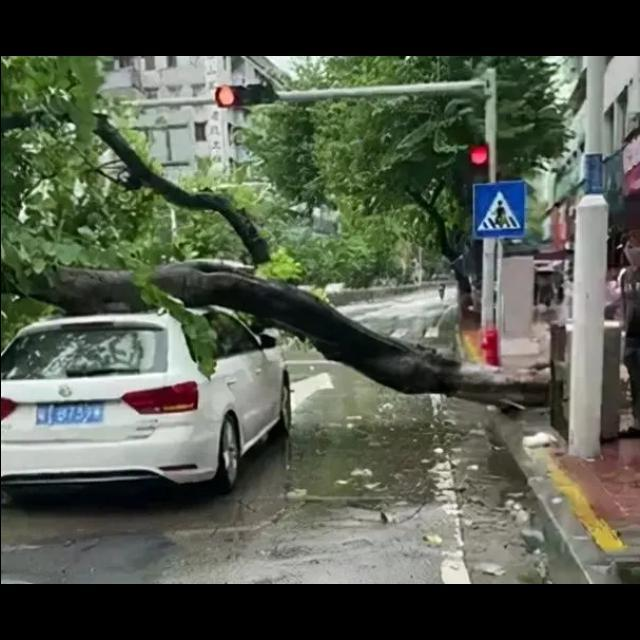fallen_tree: (1, 62, 559, 412)
